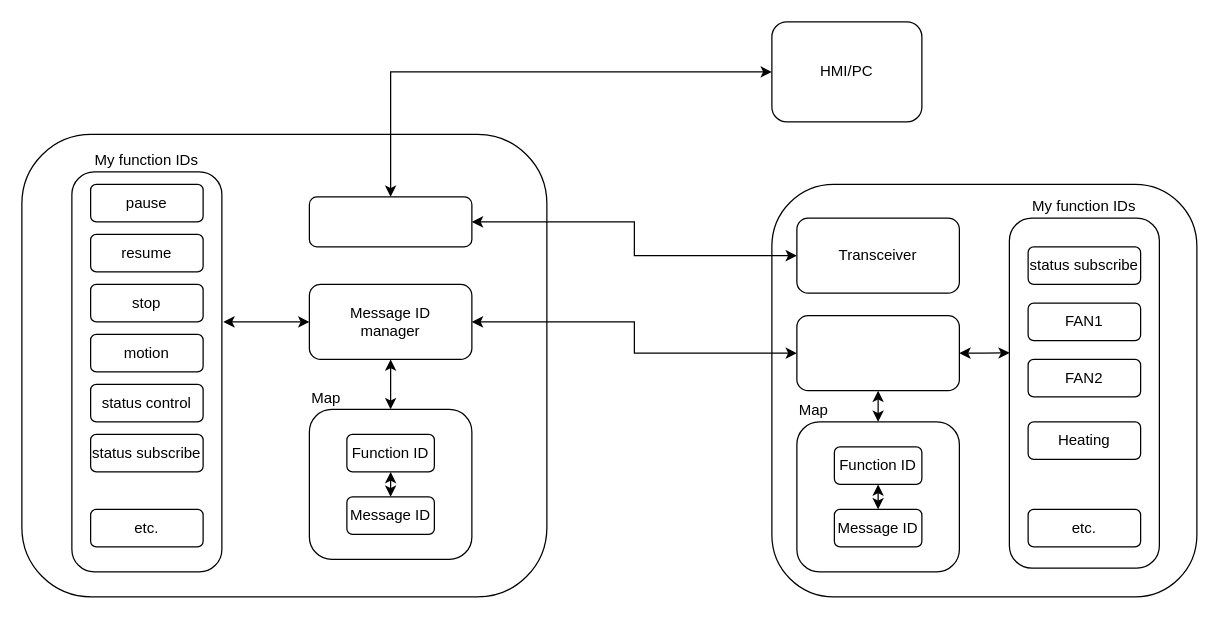
Some shapes in this 1219 by 619 pixel diagram are drawn without their labels. The box of each missing label's shape, as (x1, y1, x2, y2) in pixels:
Forward: (308, 196, 472, 247)
main controller: (21, 133, 547, 597)
Message ID application: (796, 314, 959, 391)
modules: (771, 183, 1197, 597)
